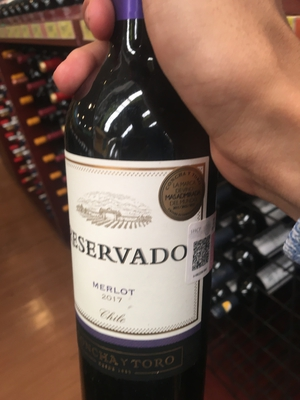reservado merlot: (52, 14, 236, 400)
